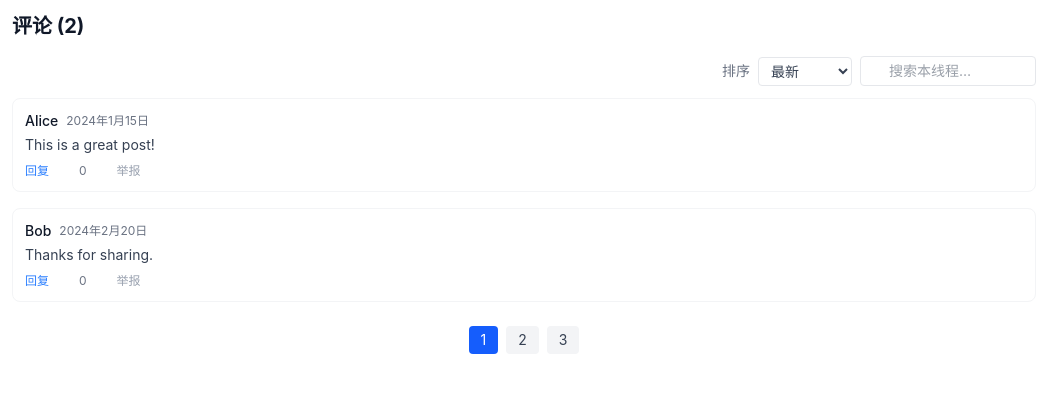
Test case: CommentList › Refresh failures + page drain (ISS-307) › surfaces a sort-refresh failure with a working retry instead of staying silent
Step 1. Select "最有帮助" in the dropdown with id "comment-sort" → (805, 71), box [758,56,852,86]
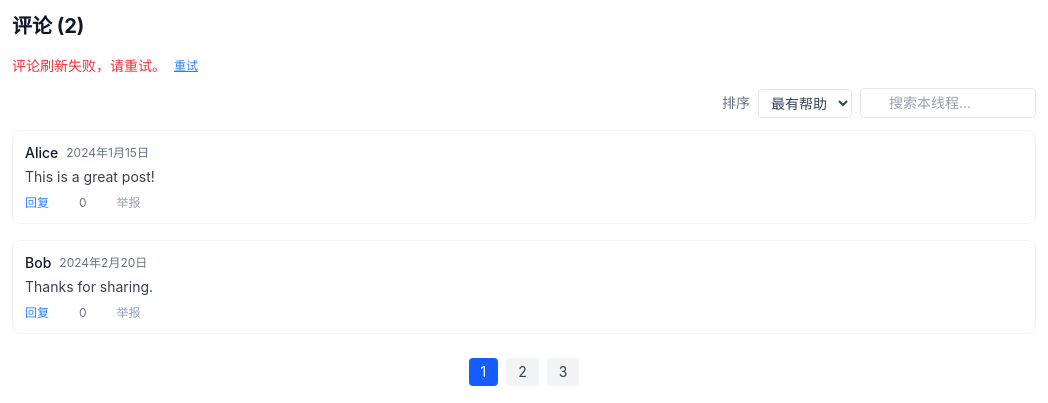
expect the text "评论刷新失败，请重试。" is shown: met, box [12,57,166,74]
expect the button "重试" is shown: met
Step 2. Click the button "重试" → (186, 66), box [174,58,198,74]
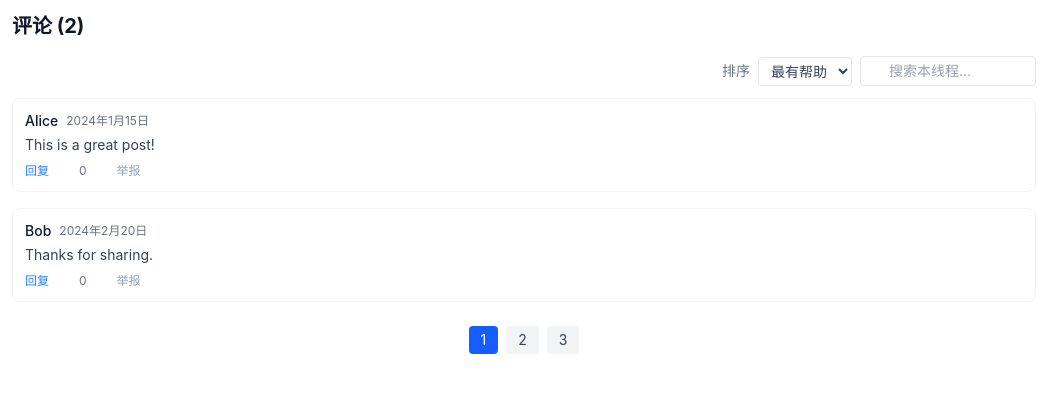
expect the text "评论刷新失败，请重试。" is gone: met
